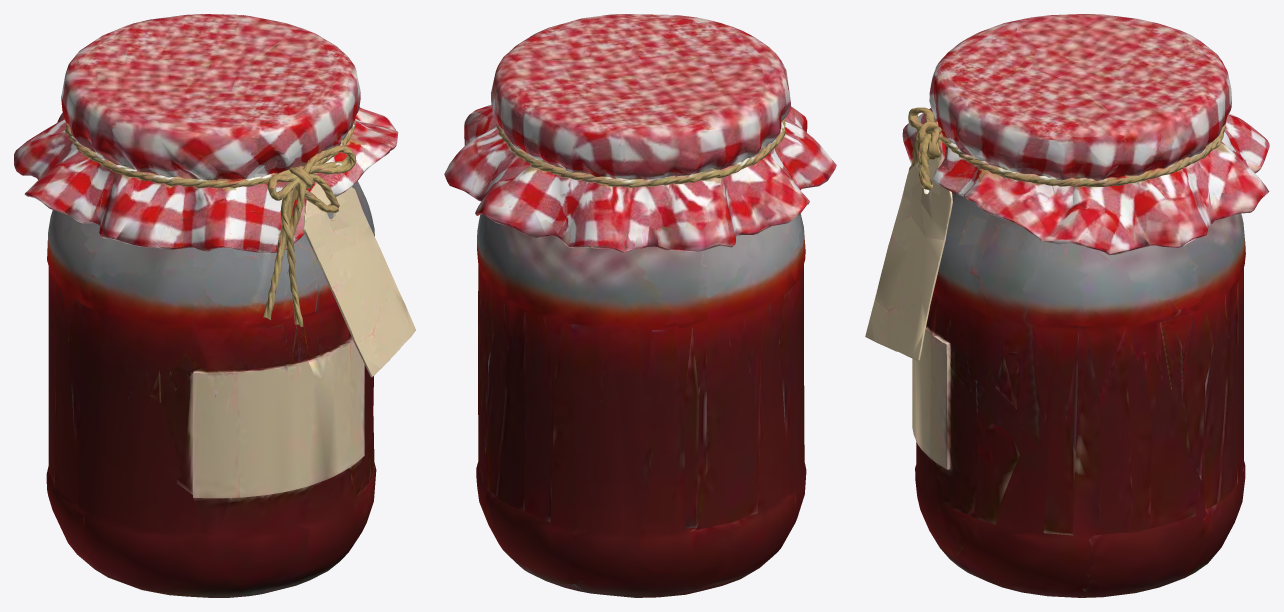
File: jam.glb
3 renders of one model, left to right at view 1: azimuth 30°, elevation 25°; view 2: azimuth 150°, elevation 25°; view 3: azimuth 270°, elevation 25°, orthographic.
Bounding box in the file's own units: 1.45 × 1.9 × 1.47.
Materials: 1 (1 with a texture image).
